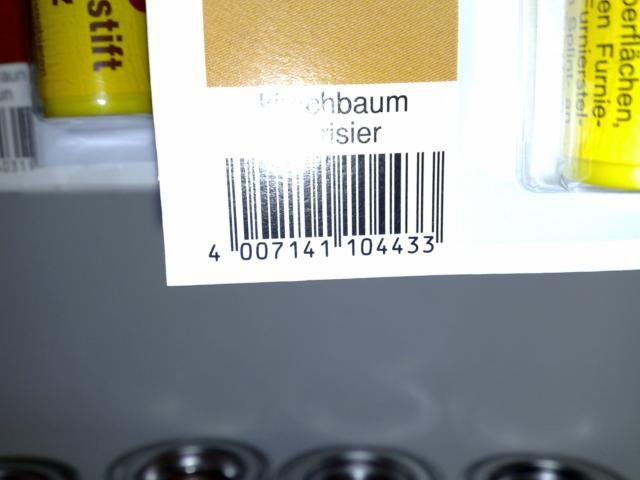Barcode: (202, 146, 451, 275)
